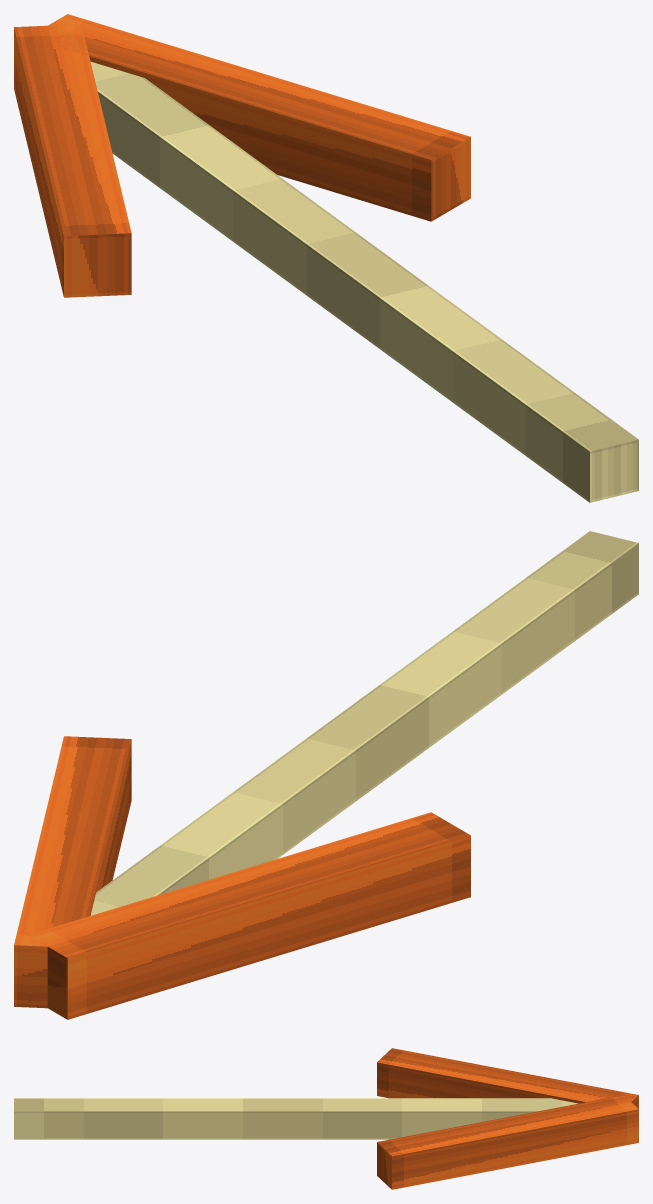
The model's file is projectile_basic_basic.gltf.
3 views of the same model, one above another, from view 1: azimuth 30°, elevation 25°; view 2: azimuth 150°, elevation 25°; view 3: azimuth 270°, elevation 25° (orthographic). The views are drawn at different scales.
Parts seen in each view (by area): view 1: core_mesh; view 2: core_mesh; view 3: core_mesh.
Boxes of the visible parts, left/top/right/bottom form: core_mesh: left=14, top=14, right=638, bottom=502; core_mesh: left=14, top=531, right=638, bottom=1019; core_mesh: left=14, top=1048, right=638, bottom=1189.
Bounding box in the file's own units: 0.2592 × 0.0375 × 0.6327.
1 material, 1 textured.
